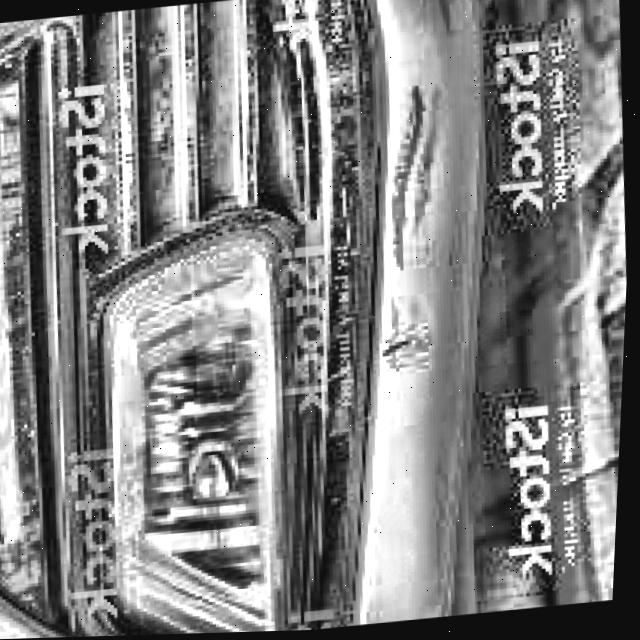bumper_scratch: (361, 61, 453, 384)
